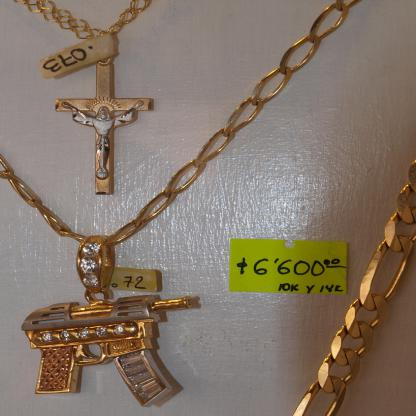Handgun: (21, 294, 192, 407)
